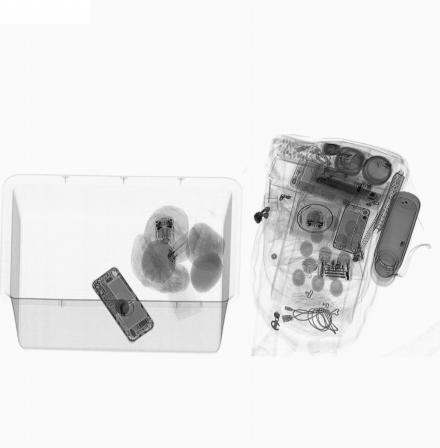Lighter: (163, 227, 200, 263)
